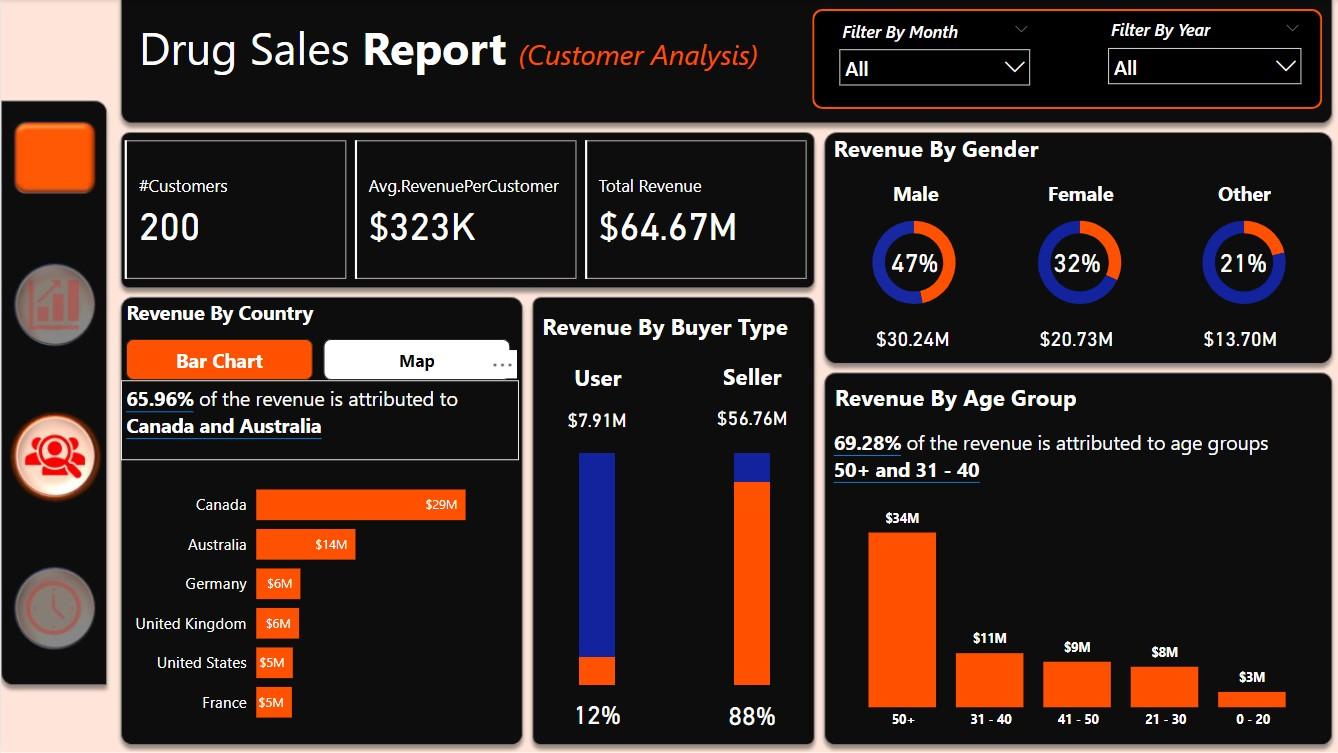

The dashboard page shown, as its layout file describes it:
{"tool":"powerbi","page":{"name":"Page 2","canvas":[1280,720],"ordinal":1},"visuals":[{"type":"group","id":"g1","title":"Group 2","box":[772.6,9.5,485.7,95.2],"z":0},{"type":"cardVisual","fields":{"Data":["Calculations.Male Revenue","Calculations.Female Revenue","Calculations.Other Revenue"]},"box":[788.9,291.9,472.6,52.4],"z":0,"group":"g2"},{"type":"clusteredBarChart","title":"Country Bar Chart","fields":{"Category":["CustomerTable.Country"],"Y":["Calculations.Total Revenue"]},"box":[113.9,439.1,378.7,266.2],"z":0,"group":"g3"},{"type":"shape","box":[772.6,9.5,485.7,95.2],"z":1000,"group":"g1"},{"type":"cardVisual","fields":{"Data":["Calculations.#Customers","Calculations.Avg.RevenuePerCustomer","Calculations.Total Revenue"]},"box":[113.1,129.8,659.5,142.9],"z":1000},{"type":"donutChart","fields":{"Y":["Calculations.% Female Revenue","Calculations.Rem:% Female Revenue"]},"box":[947.9,196.4,157.3,109.2],"z":1000,"group":"g2"},{"type":"donutChart","fields":{"Y":["Calculations.% Male Revenue","Calculations.Rem:% Male Revenue"]},"box":[791.7,196.4,156.2,109.2],"z":2000,"group":"g2"},{"type":"card","fields":{"Values":["Calculations.% Female Revenue"]},"box":[990.5,221.4,69,59.5],"z":2000},{"type":"donutChart","fields":{"Y":["Calculations.% Other Revenue","Calculations.Rem:% Other Revenue"]},"box":[1105.7,196.6,156.2,109.2],"z":3000,"group":"g2"},{"type":"card","fields":{"Values":["Calculations.% Male Revenue"]},"box":[835.7,221.4,69,59.5],"z":3000},{"type":"textbox","box":[792.1,167.9,156.2,36.2],"z":4000,"group":"g2"},{"type":"card","fields":{"Values":["Calculations.% Other Revenue"]},"box":[1148.8,226.2,69,50],"z":4000},{"type":"group","id":"g2","title":"Group 1","box":[788.9,167.9,473,176.4],"z":5000},{"type":"textbox","box":[949.4,167.9,156.2,36.2],"z":5000,"group":"g2"},{"type":"textbox","box":[1105.7,167.9,156.2,36.2],"z":6000,"group":"g2"},{"type":"clusteredColumnChart","fields":{"Category":["CustomerTable.AgeGroup"],"Y":["Calculations.Total Revenue"]},"box":[788.1,472.6,476.2,232.1],"z":6000},{"type":"textbox","box":[788.1,404.8,479.8,67.9],"z":7000},{"type":"hundredPercentStackedColumnChart","fields":{"Y":["Calculations.% Seller Revenue","Calculations.Rem.% Seller Revenue"]},"box":[658.3,419,114.3,240.5],"z":8000},{"type":"hundredPercentStackedColumnChart","fields":{"Y":["Calculations.% User Revenue","Calculations.Rem.% User Revenue"]},"box":[510.7,419,114.3,240.5],"z":9000},{"type":"card","fields":{"Values":["Calculations.Seller Revenue"]},"box":[658.3,385.7,114.3,27.4],"z":10000},{"type":"card","fields":{"Values":["Calculations.User Revenue"]},"box":[510.7,385.7,114.3,32.1],"z":11000},{"type":"group","id":"g3","title":"RevenueVsCountryChart","box":[113.9,439.1,382.4,266.7],"z":12000},{"type":"bookmarkNavigator","box":[119.4,323.8,367.8,39.8],"z":13000},{"type":"textbox","box":[113.9,363.6,378.7,75.5],"z":14000},{"type":"card","fields":{"Values":["Calculations.% Seller Revenue"]},"box":[658.3,656,114.3,52.4],"z":15000},{"type":"card","fields":{"Values":["Calculations.% User Revenue"]},"box":[510.7,656,114.3,50],"z":16000},{"type":"textbox","box":[511.9,340.5,113.1,45.2],"z":17000},{"type":"textbox","box":[658.3,339.3,114.3,46.4],"z":18000},{"type":"textbox","box":[788.1,122.6,473.8,45.2],"z":19000},{"type":"textbox","box":[789.3,359.5,473.8,45.2],"z":20000},{"type":"textbox","box":[510.7,291.7,261.9,47.6],"z":21000},{"type":"textbox","box":[114.3,281,378.6,40.5],"z":22000},{"type":"textbox","box":[126.2,11.9,644.1,85.7],"z":23000},{"type":"slicer","fields":{"Values":["Calender.Month"]},"box":[788.1,14.3,202.4,85.7],"z":24000},{"type":"slicer","fields":{"Values":["Calender.Year"]},"box":[1044.1,13.1,204.8,83.3],"z":25000},{"type":"actionButton","box":[0,240.6,100,103.8],"z":26000},{"type":"actionButton","box":[1.3,528.1,100,101.3],"z":27000}]}

Visuals, with their boxes in screenshot pixels (x1, y1, x2, y2), scaled from the page's 1280x720 canvas onto the 1338x753 screenshot:
"Group 2" group: 808:10:1315:109
cardVisual - Calculations.Male Revenue x Calculations.Female Revenue: 825:305:1319:360
"Country Bar Chart" clusteredBarChart: 119:459:515:738
shape: 808:10:1315:109
cardVisual - Calculations.#Customers x Calculations.Avg.RevenuePerCustomer: 118:136:808:285
donutChart - Calculations.% Female Revenue x Calculations.Rem:% Female Revenue: 991:205:1155:320
donutChart - Calculations.% Male Revenue x Calculations.Rem:% Male Revenue: 828:205:991:320
card - Calculations.% Female Revenue: 1035:232:1108:294
donutChart - Calculations.% Other Revenue x Calculations.Rem:% Other Revenue: 1156:206:1319:320
card - Calculations.% Male Revenue: 874:232:946:294
textbox: 828:176:991:213
card - Calculations.% Other Revenue: 1201:237:1273:289
"Group 1" group: 825:176:1319:360
textbox: 992:176:1156:213
textbox: 1156:176:1319:213
clusteredColumnChart - CustomerTable.AgeGroup x Calculations.Total Revenue: 824:494:1322:737
textbox: 824:423:1325:494
hundredPercentStackedColumnChart - Calculations.% Seller Revenue x Calculations.Rem.% Seller Revenue: 688:438:808:690
hundredPercentStackedColumnChart - Calculations.% User Revenue x Calculations.Rem.% User Revenue: 534:438:653:690
card - Calculations.Seller Revenue: 688:403:808:432
card - Calculations.User Revenue: 534:403:653:437
"RevenueVsCountryChart" group: 119:459:519:738
bookmarkNavigator: 125:339:509:380
textbox: 119:380:515:459
card - Calculations.% Seller Revenue: 688:686:808:741
card - Calculations.% User Revenue: 534:686:653:738
textbox: 535:356:653:403
textbox: 688:355:808:403
textbox: 824:128:1319:175
textbox: 825:376:1320:423
textbox: 534:305:808:355
textbox: 119:294:515:336
textbox: 132:12:805:102
slicer - Calender.Month: 824:15:1035:105
slicer - Calender.Year: 1091:14:1305:101
actionButton: 0:252:105:360
actionButton: 1:552:106:658
